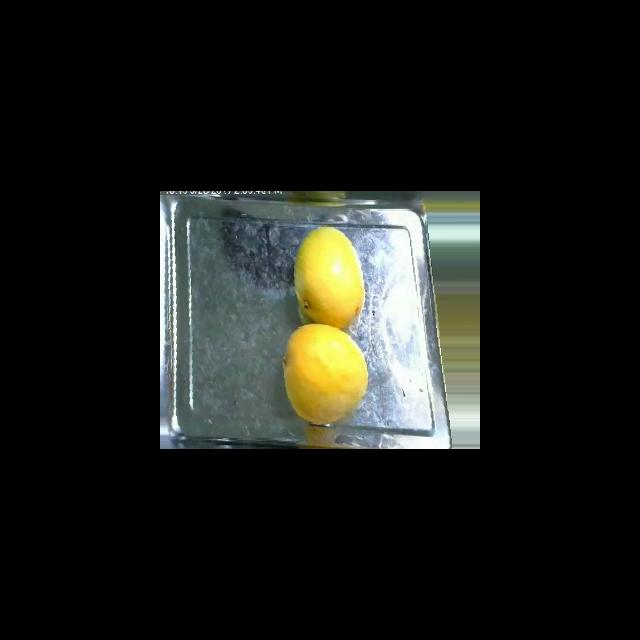Mango: (282, 323, 368, 425), (293, 226, 365, 328)
